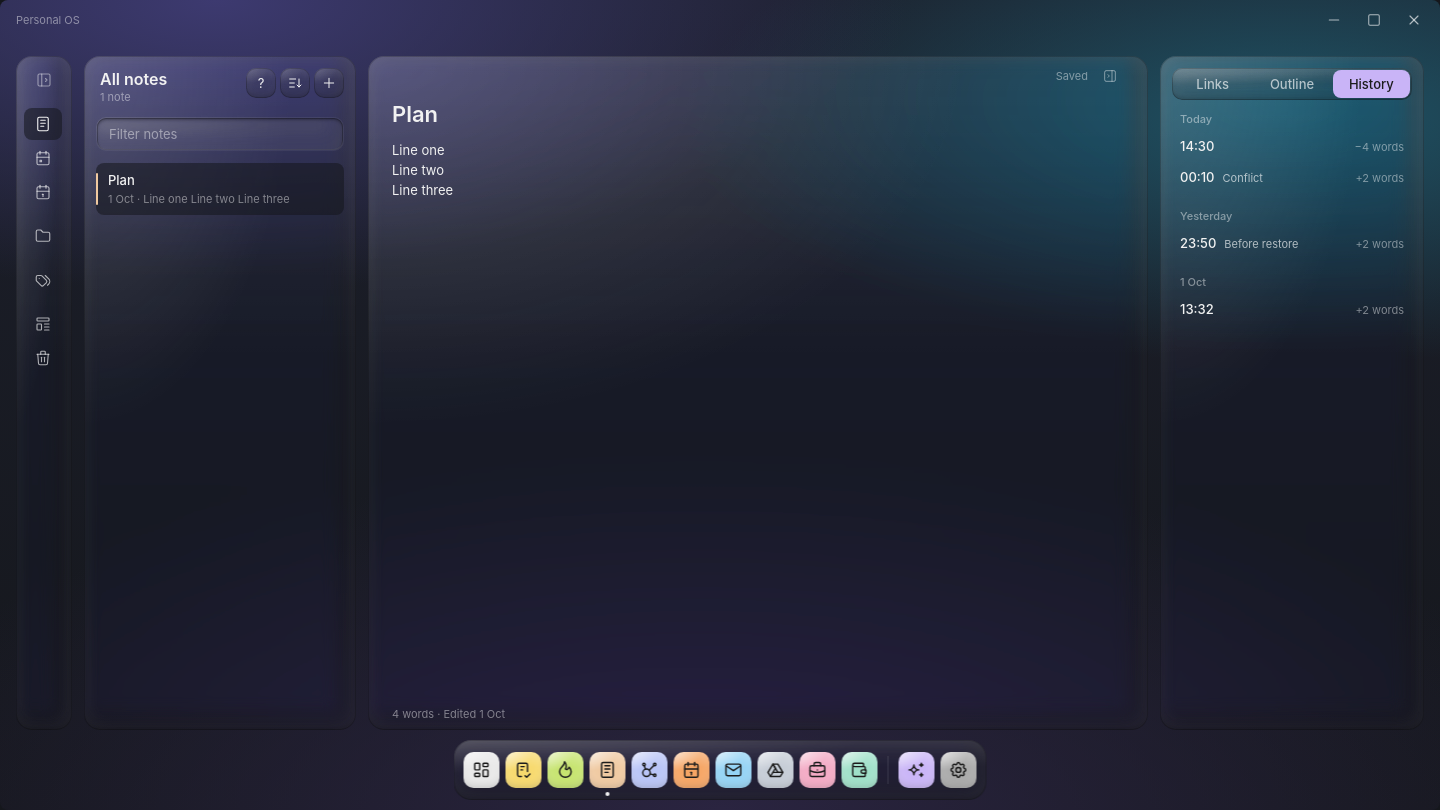
it: previewing a version › shows the version read-only, saves nothing, and puts the text back on Close
Expected: the heading "Today" is shown, [1180,112,1212,126]
Expected: the field labelled "Line one Line two Line three" is shown, [392,142,453,198]
Click the button "23:50 Before restore +2 words".
click(1292, 244)  # box [1172,228,1412,259]
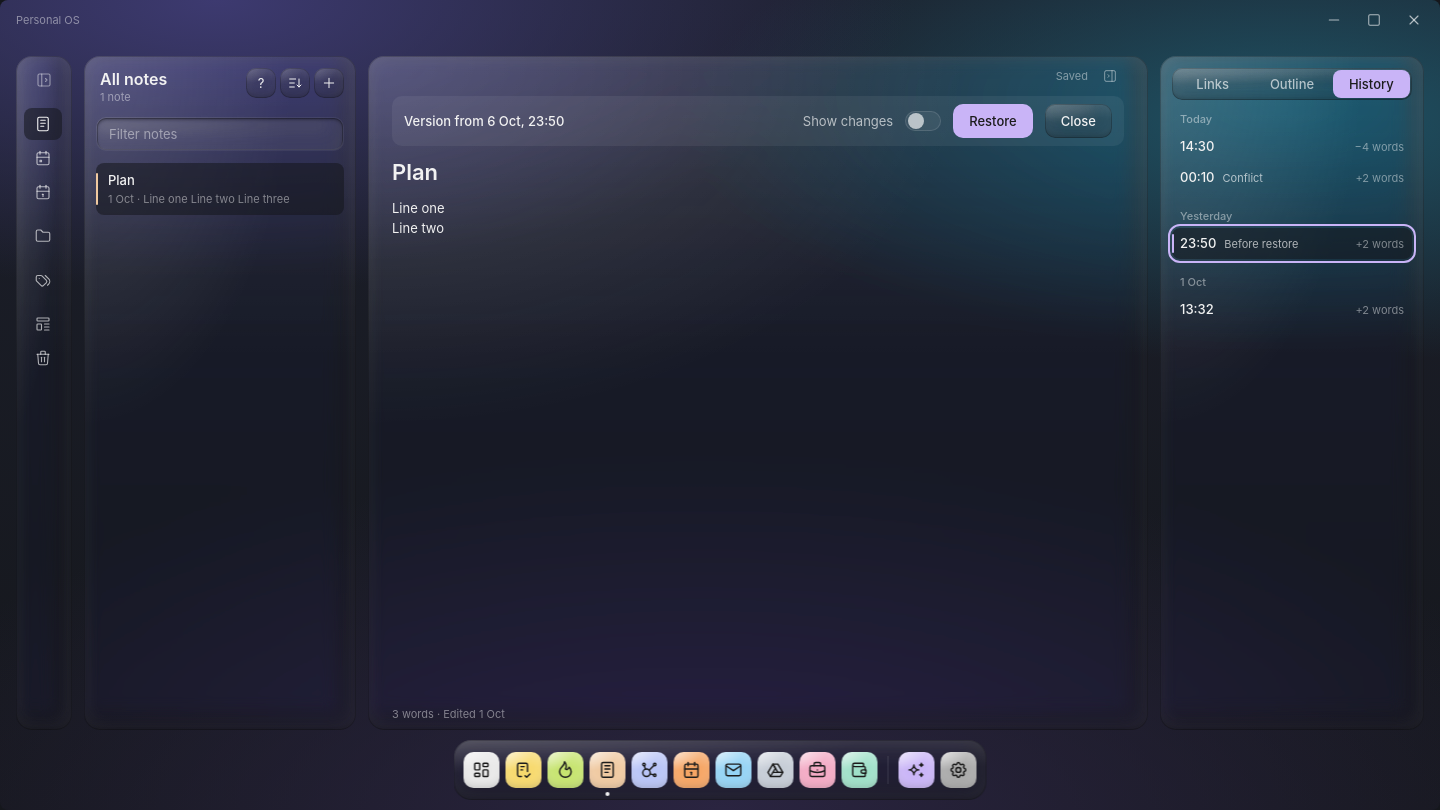
Expected: the text "Line three" is not shown
Expected: the text "Version from 6 Oct, 23:50" is shown, [404,112,564,128]
Click the button "Close".
click(1078, 121)  # box [1045,104,1112,138]
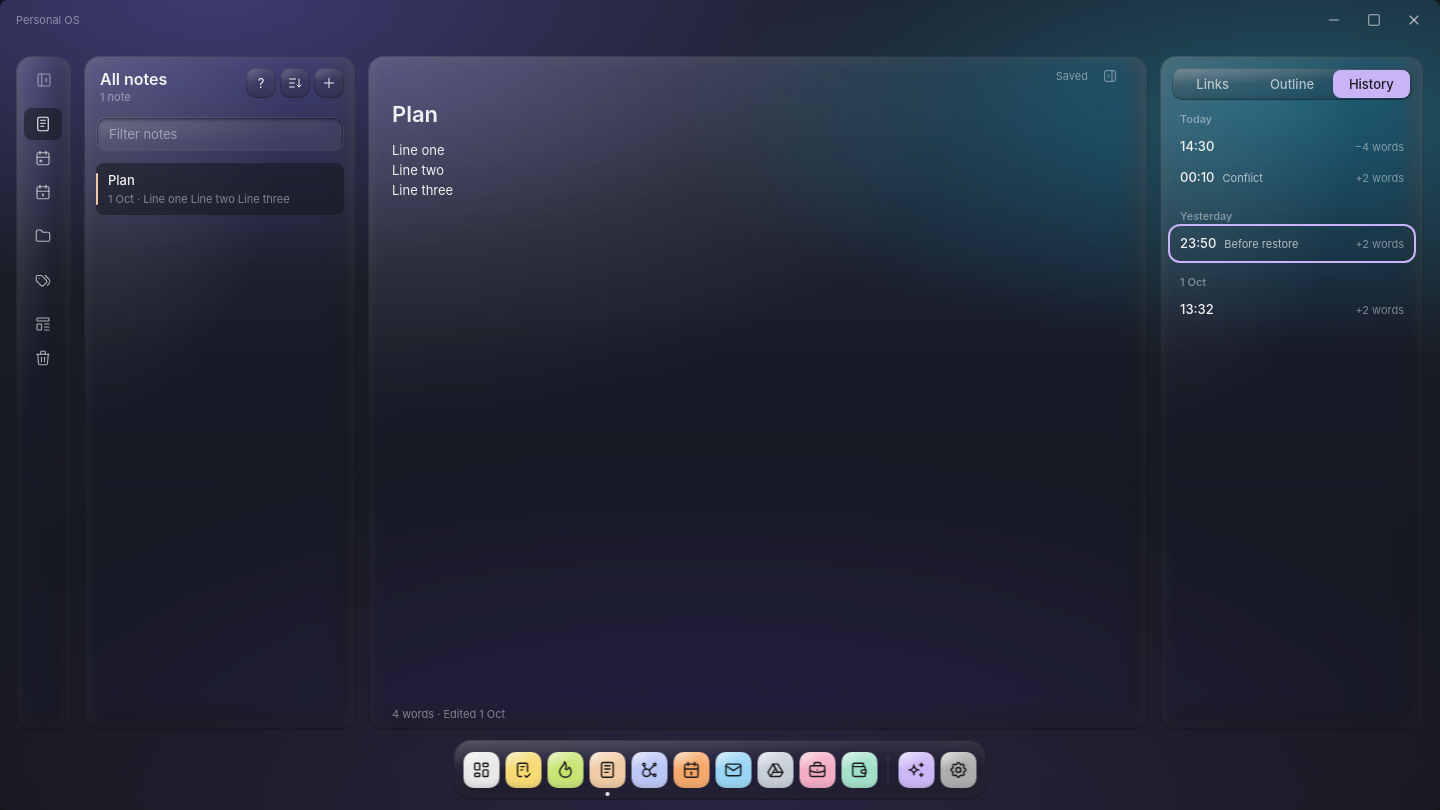
Expected: the field labelled "Line one Line two Line three" is shown, [392,142,453,198]
